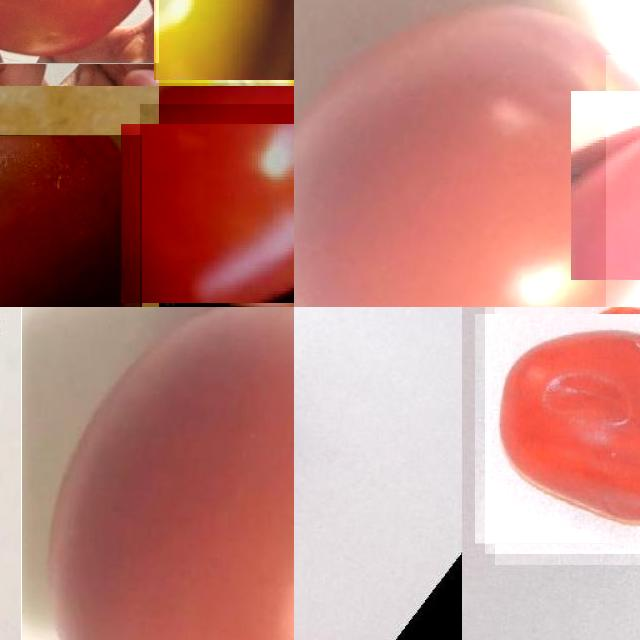0: (140, 104, 294, 307), (0, 135, 142, 307)
1: (484, 307, 640, 554), (156, 0, 294, 83), (0, 0, 159, 63)
Fresh Tomato: (294, 0, 640, 307), (21, 307, 294, 640)
